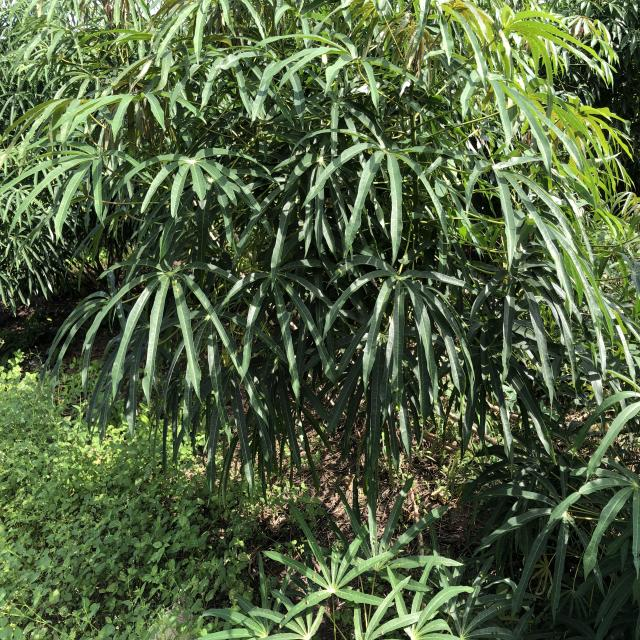Maleza: (3, 424, 213, 640)
Mosca: (380, 372, 402, 396), (369, 532, 394, 553), (332, 544, 347, 567), (168, 274, 183, 296), (298, 593, 317, 609), (483, 603, 509, 613), (394, 399, 402, 417)
